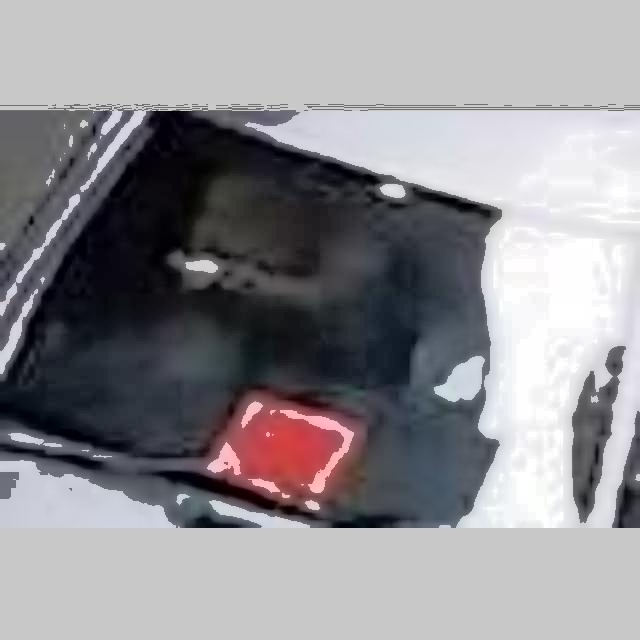tidak-pakai: (160, 151, 389, 322)
